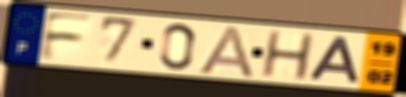0: (158, 22, 197, 71)
7: (97, 14, 143, 68)
A: (193, 24, 257, 80), (306, 34, 363, 85)
F: (37, 11, 97, 63)
H: (258, 30, 317, 82)
